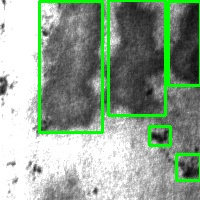inclusion: (176, 154, 200, 180), (149, 126, 170, 145)
patches: (39, 1, 102, 132), (108, 1, 165, 115), (168, 1, 200, 85)
